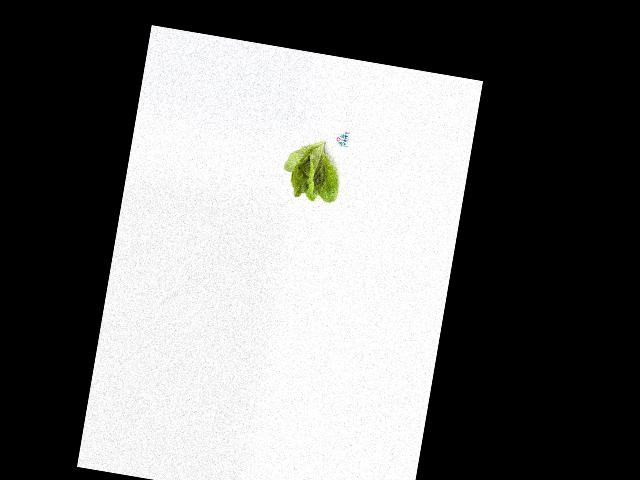lettuce: (277, 134, 344, 206)
